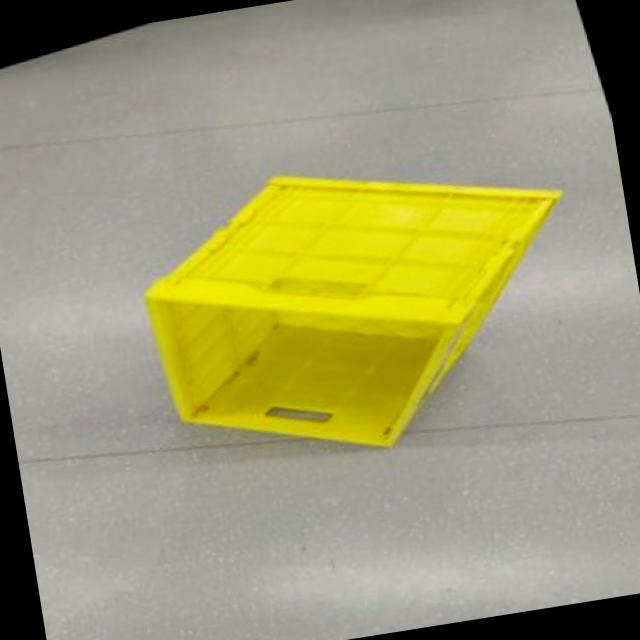box: (79, 66, 640, 559)
